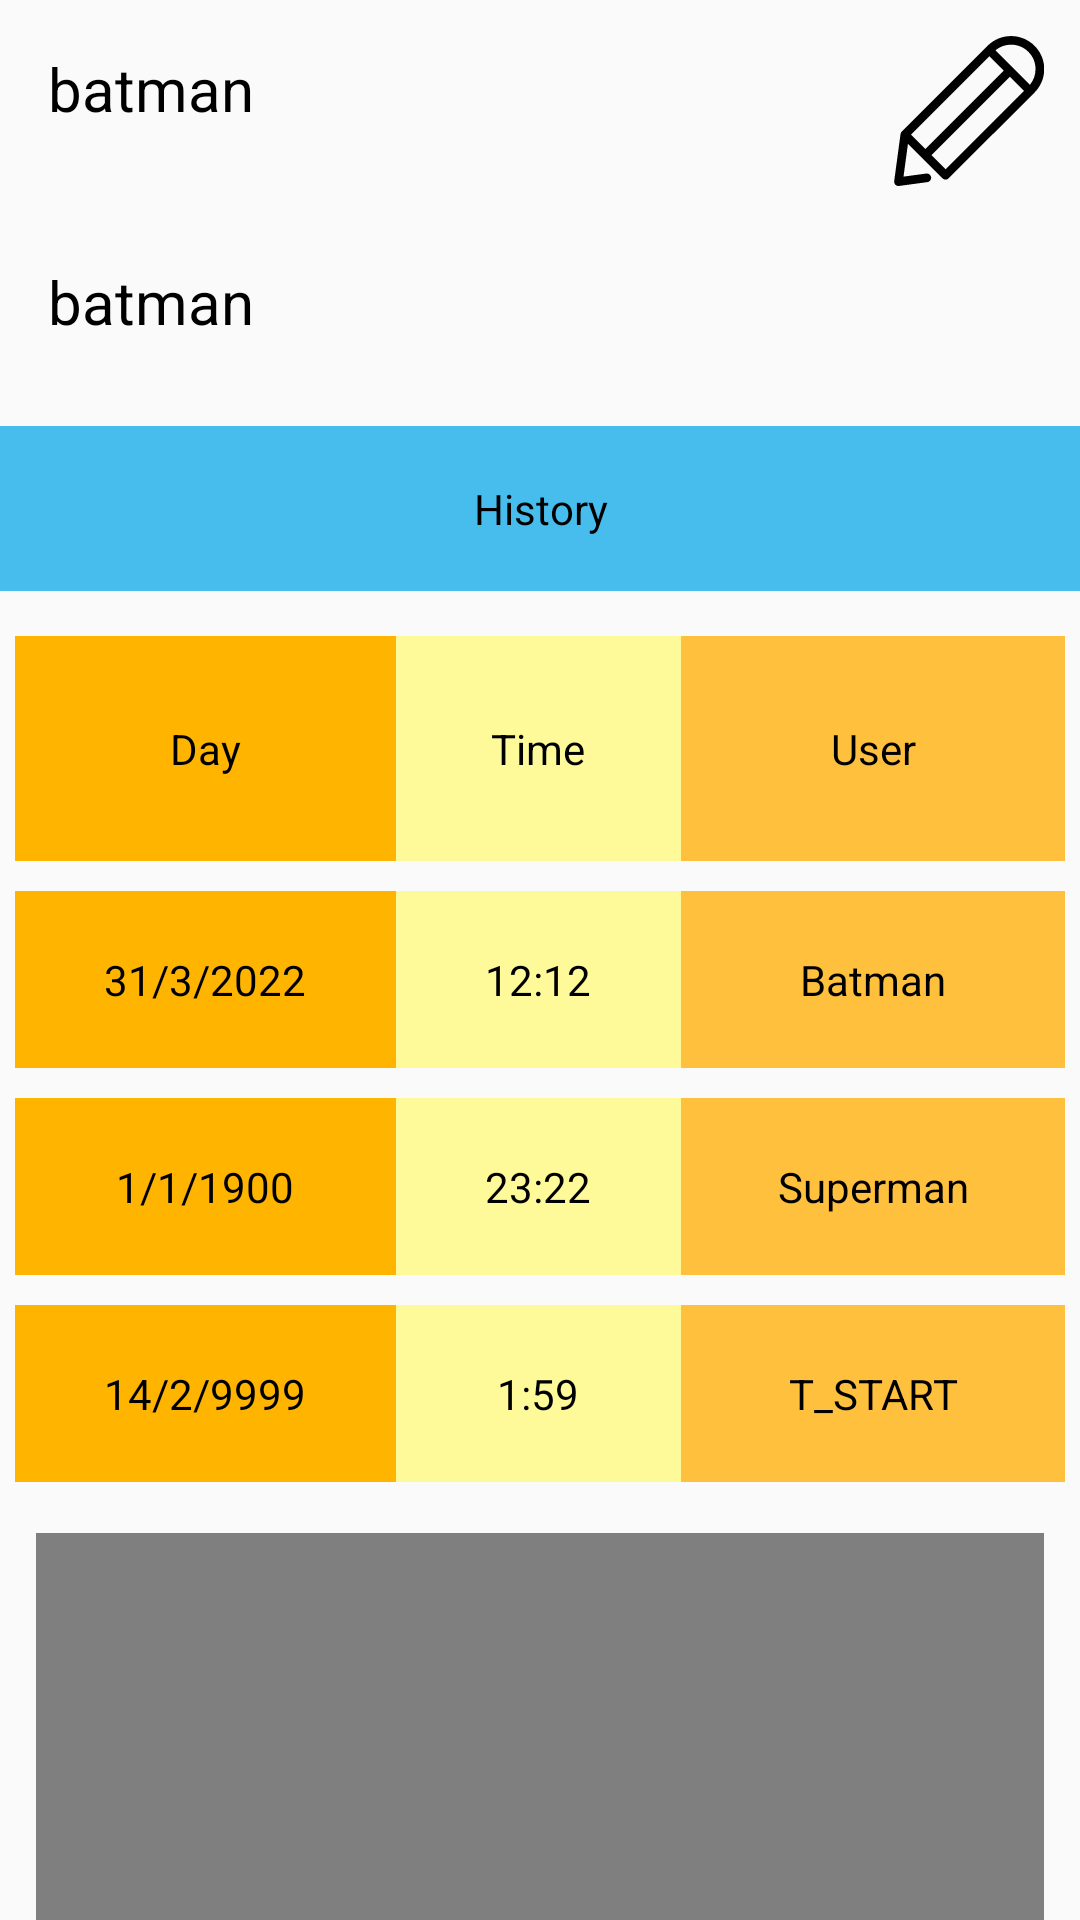

Where to tap for icons on this 1080×1920 app screen, as point (x, y):
edit: point (969, 111)
